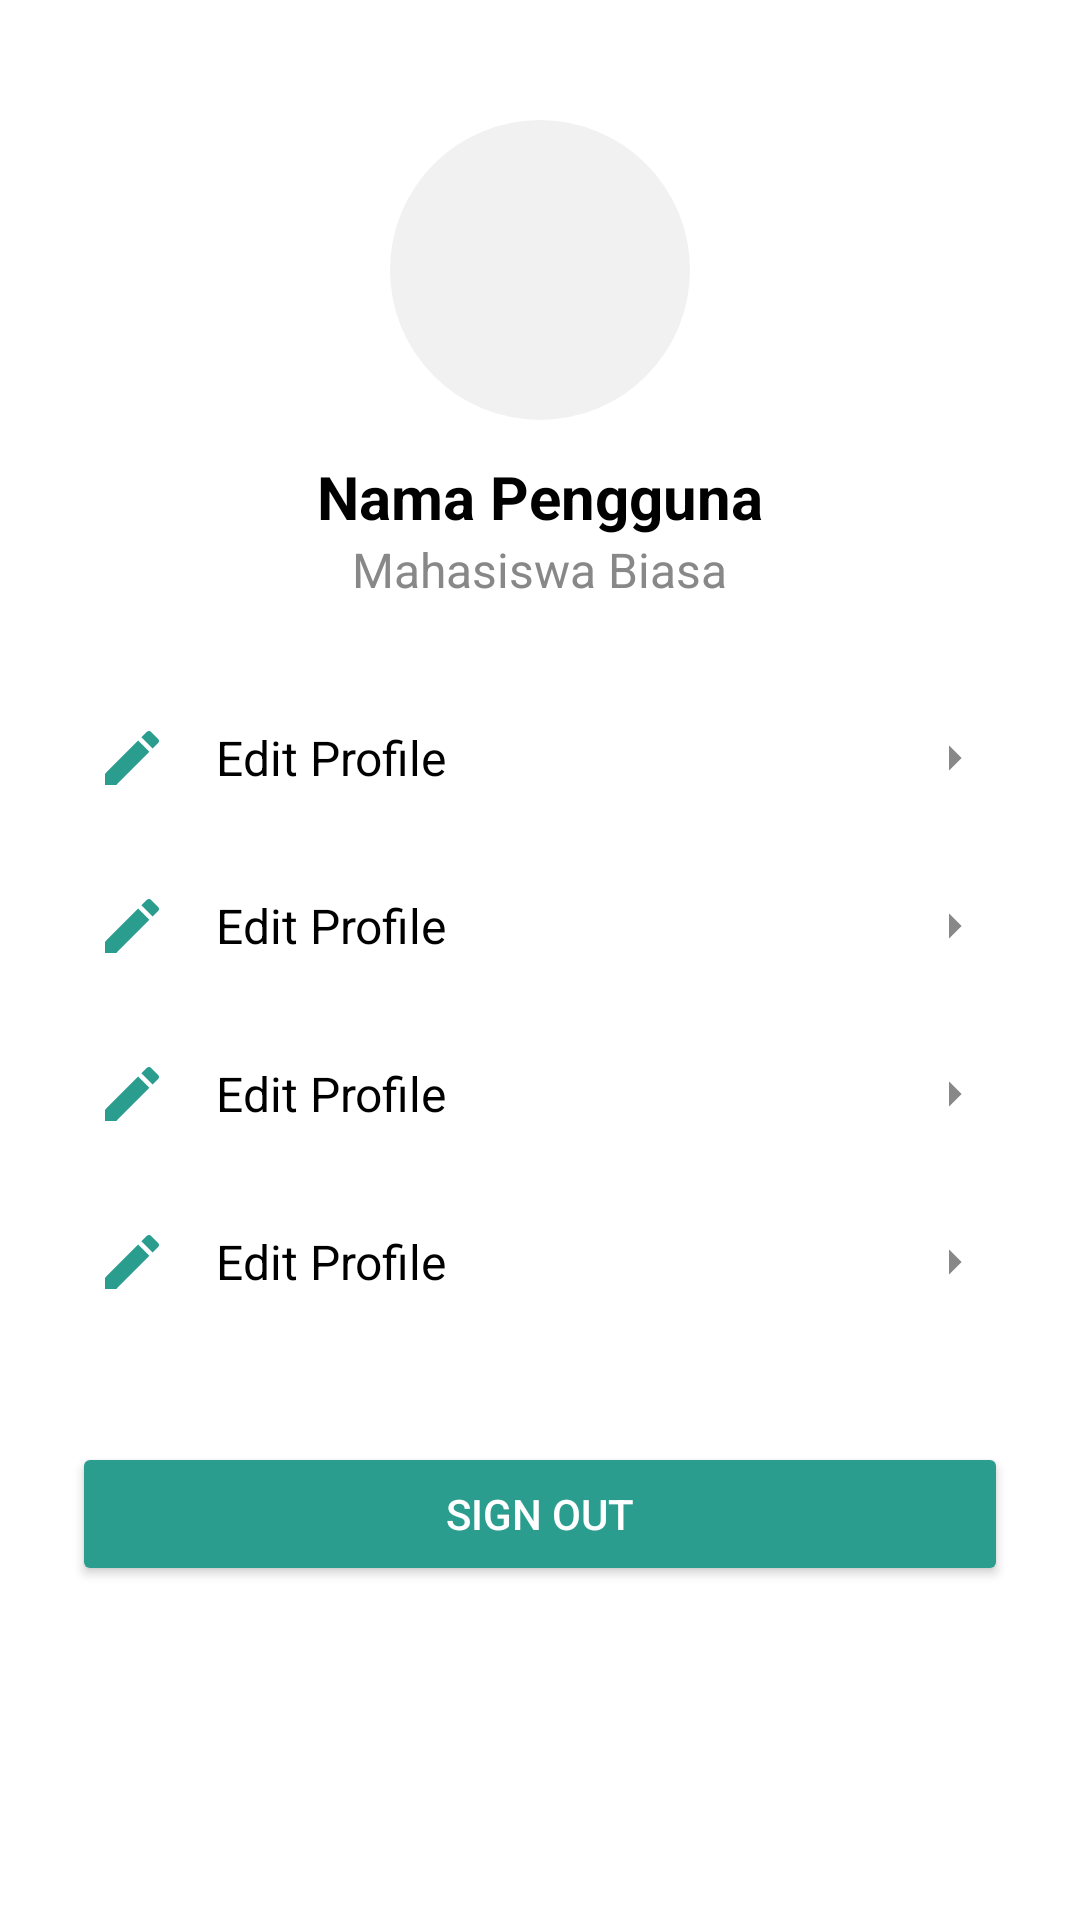

Screen size 1080 x 1920. Icon name, then its center in pixels as (x=x, y=y):
arrow right: (x=955, y=758), (x=955, y=926), (x=955, y=1094), (x=955, y=1262)
